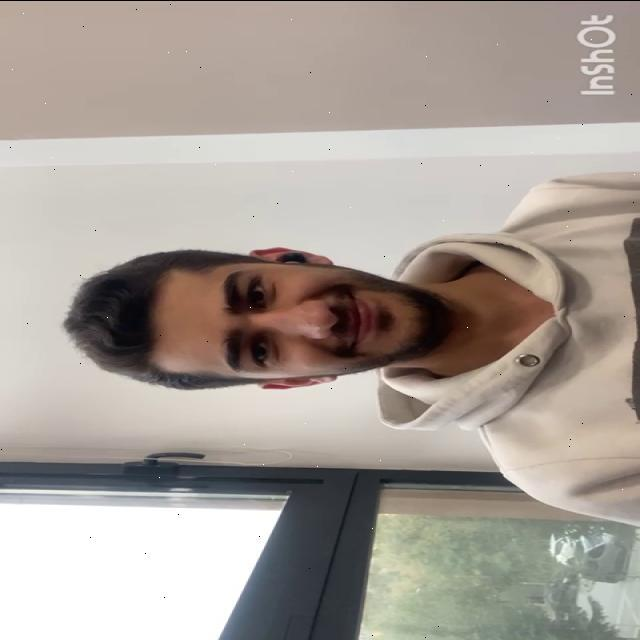happy: (147, 258, 439, 380)
